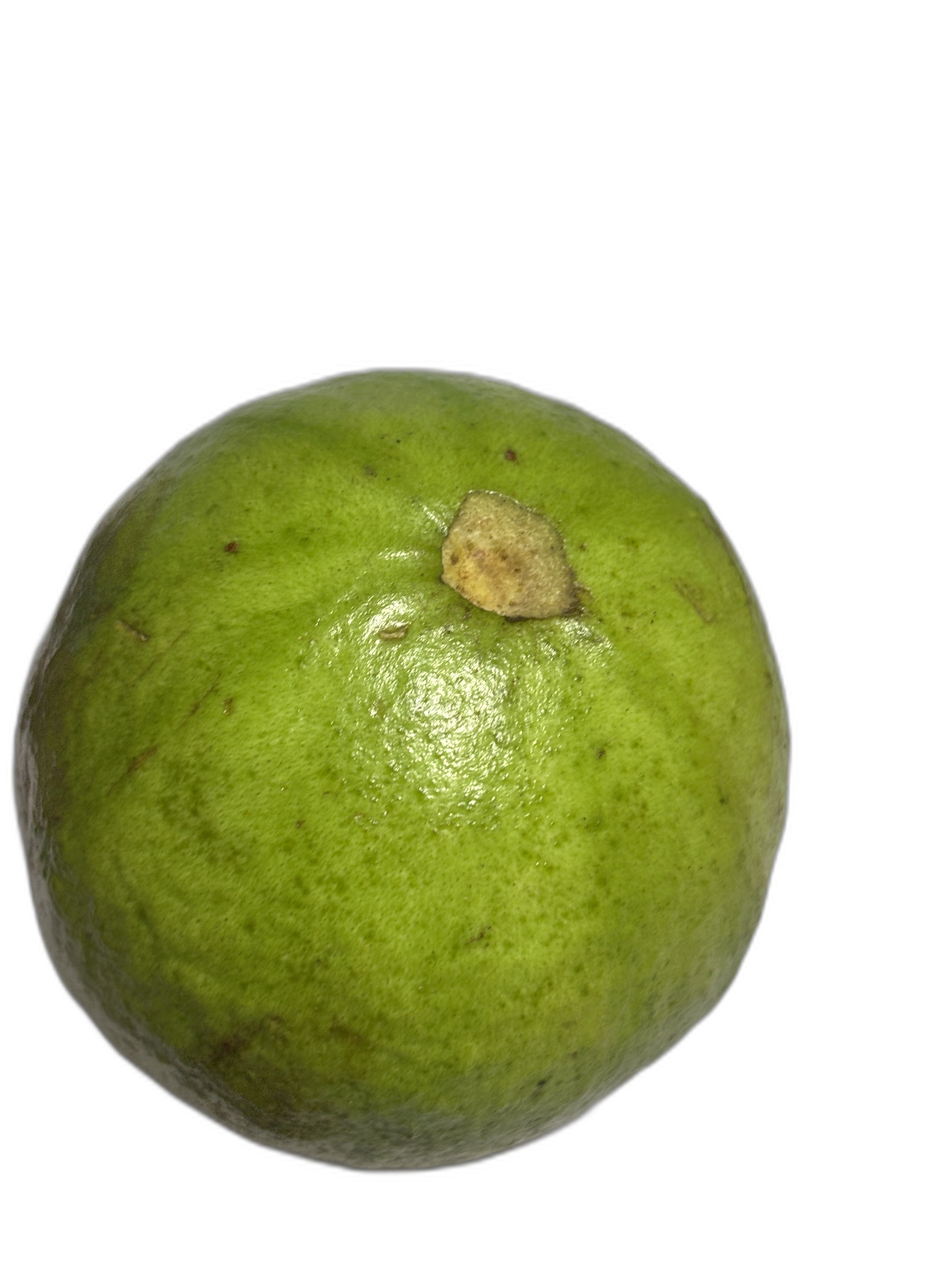guava: (241, 171, 837, 1163)
